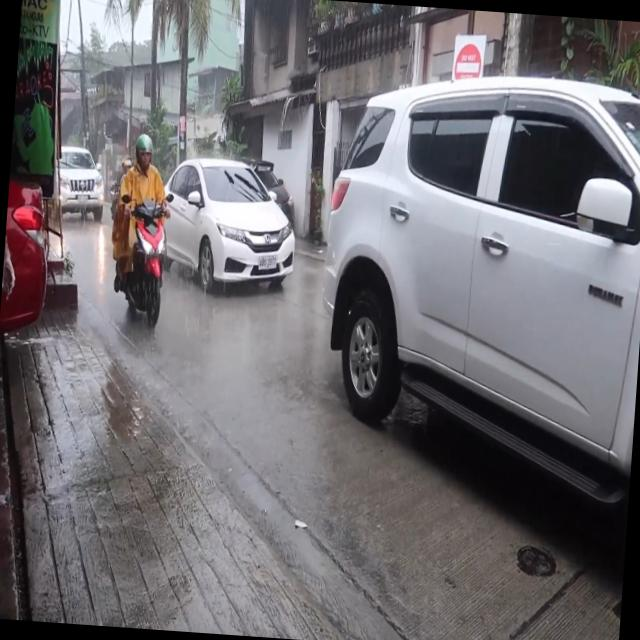half: (132, 130, 155, 175)
